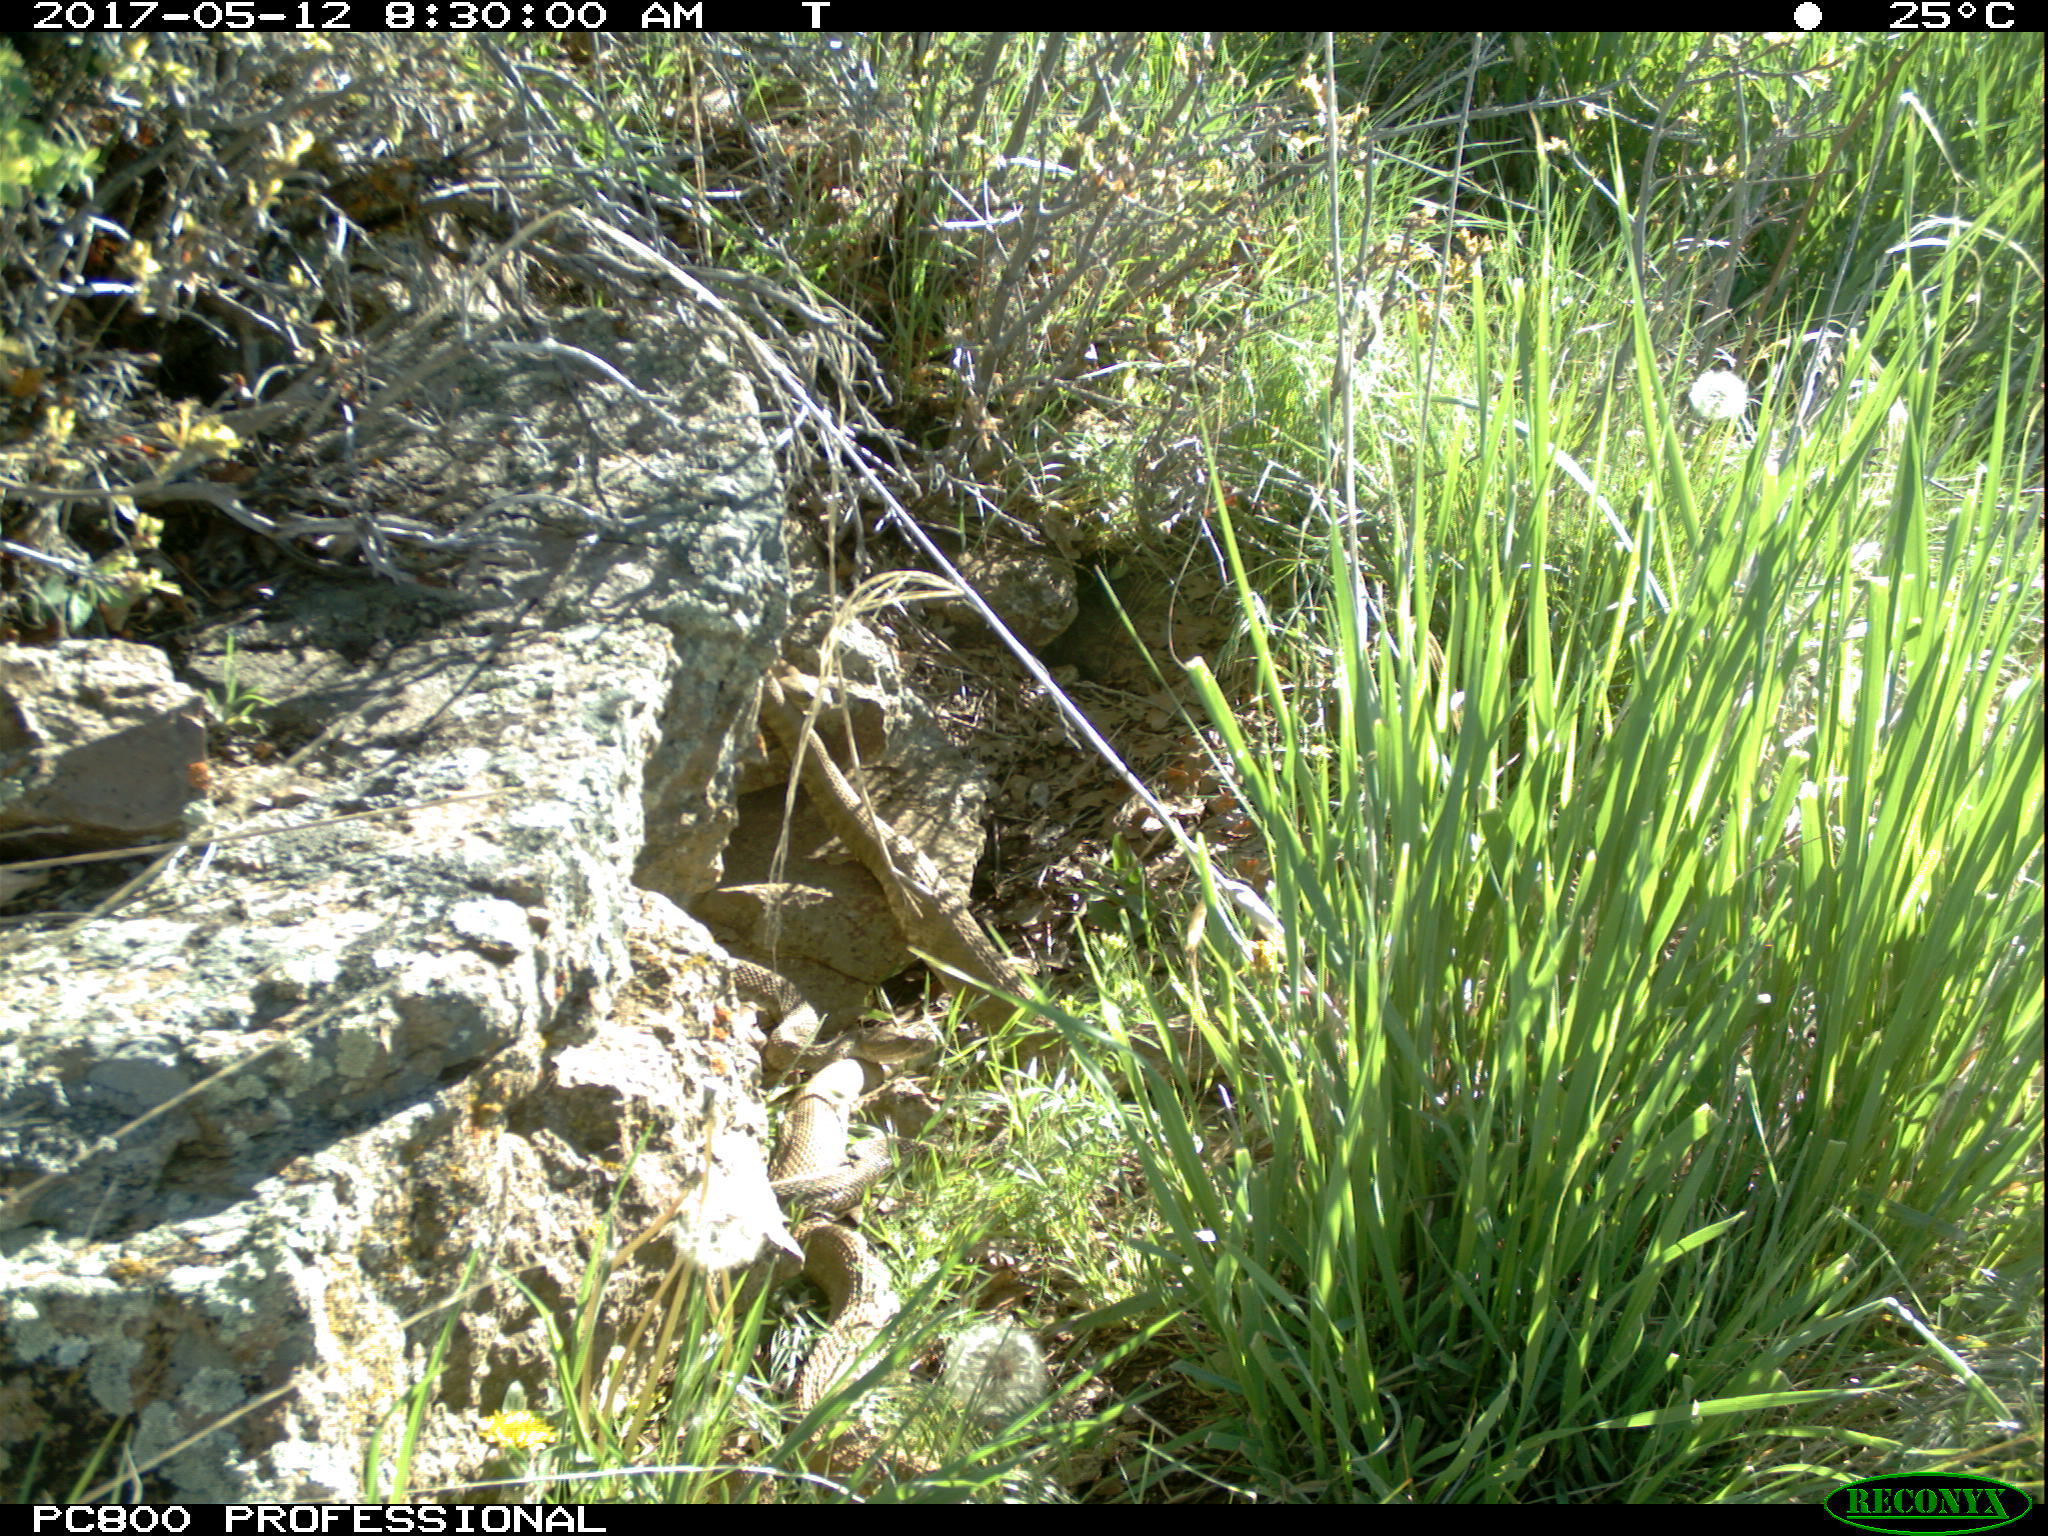snake: (760, 686, 1045, 1021), (787, 1218, 922, 1480), (724, 958, 948, 1071), (768, 1055, 868, 1207)
